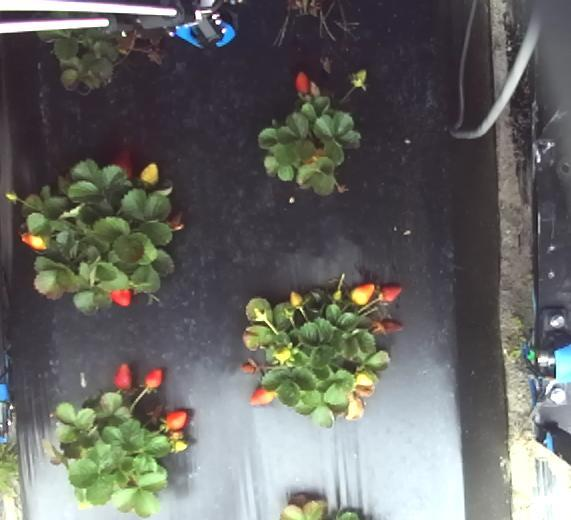mature: (113, 151, 136, 181), (250, 386, 275, 408), (109, 287, 134, 309), (292, 69, 311, 96), (164, 411, 188, 432), (142, 368, 165, 389), (384, 282, 404, 304), (116, 362, 132, 388)
